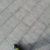others: (1, 1, 45, 49)
